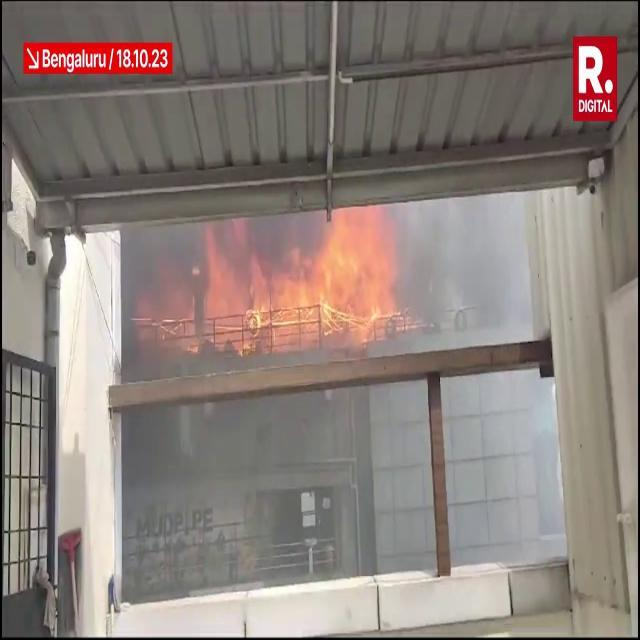Fire: (189, 204, 406, 344)
